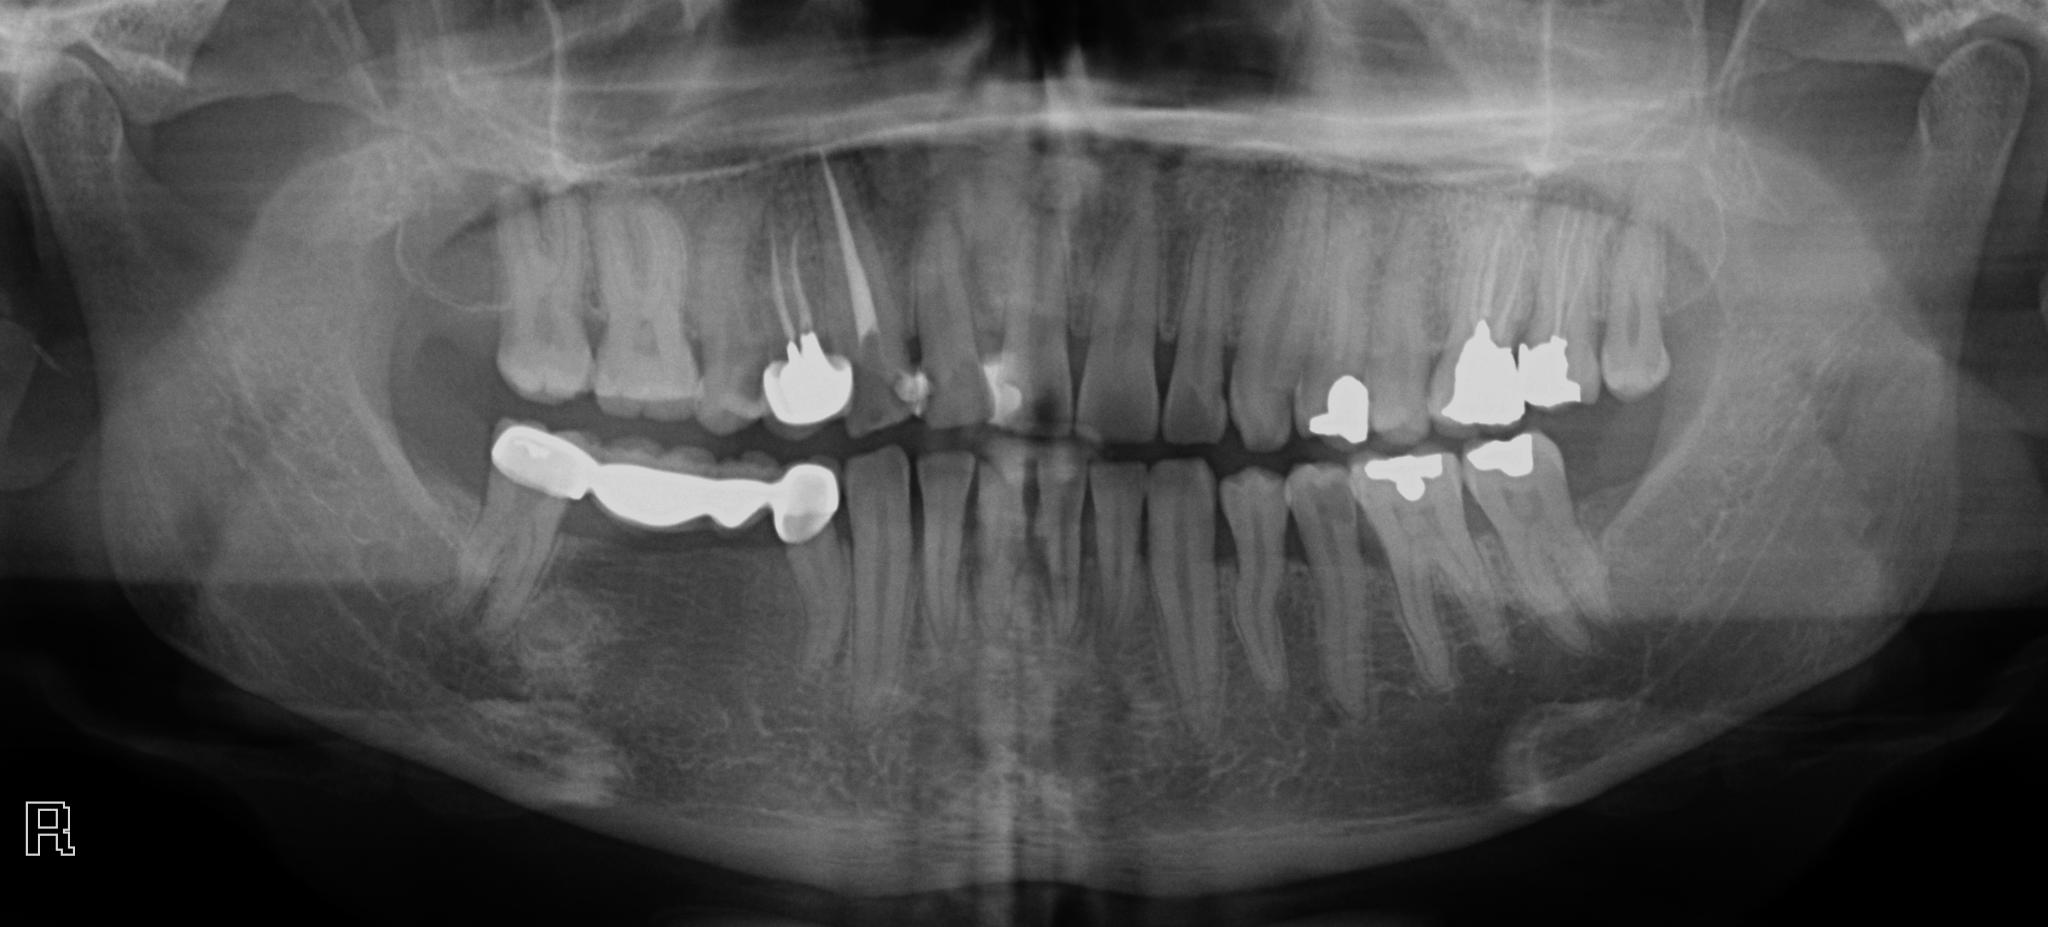Fillings: (1465, 431, 1612, 661), (447, 424, 596, 641), (1289, 208, 1373, 450), (769, 457, 852, 682)
Implant: (755, 218, 865, 435), (1514, 212, 1608, 416)
